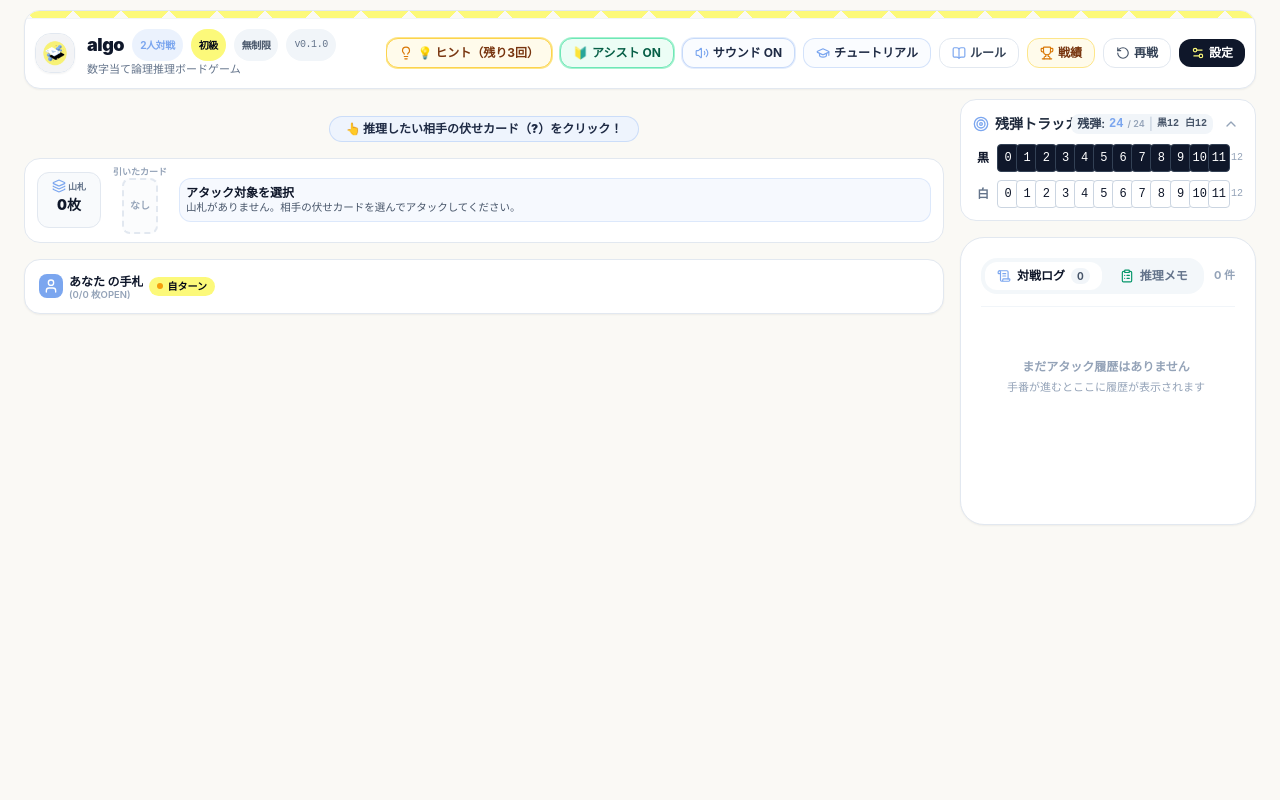
Test: GameBoard Component & Timer Pause/Resume Logic (Issue #13) › 通算戦績（Match Stats）およびアチーブメント（実績システム）(Issue #72) › ヘッダーの「🏆 戦績」ボタンをクリックすると StatsModal が開き、戦績と実績を確認できること
The width and height of the screenshot is (1280, 800).
# クリックでオープン
Click the button with test id "btn-open-stats" at (1061, 53), box [1027, 38, 1095, 68]
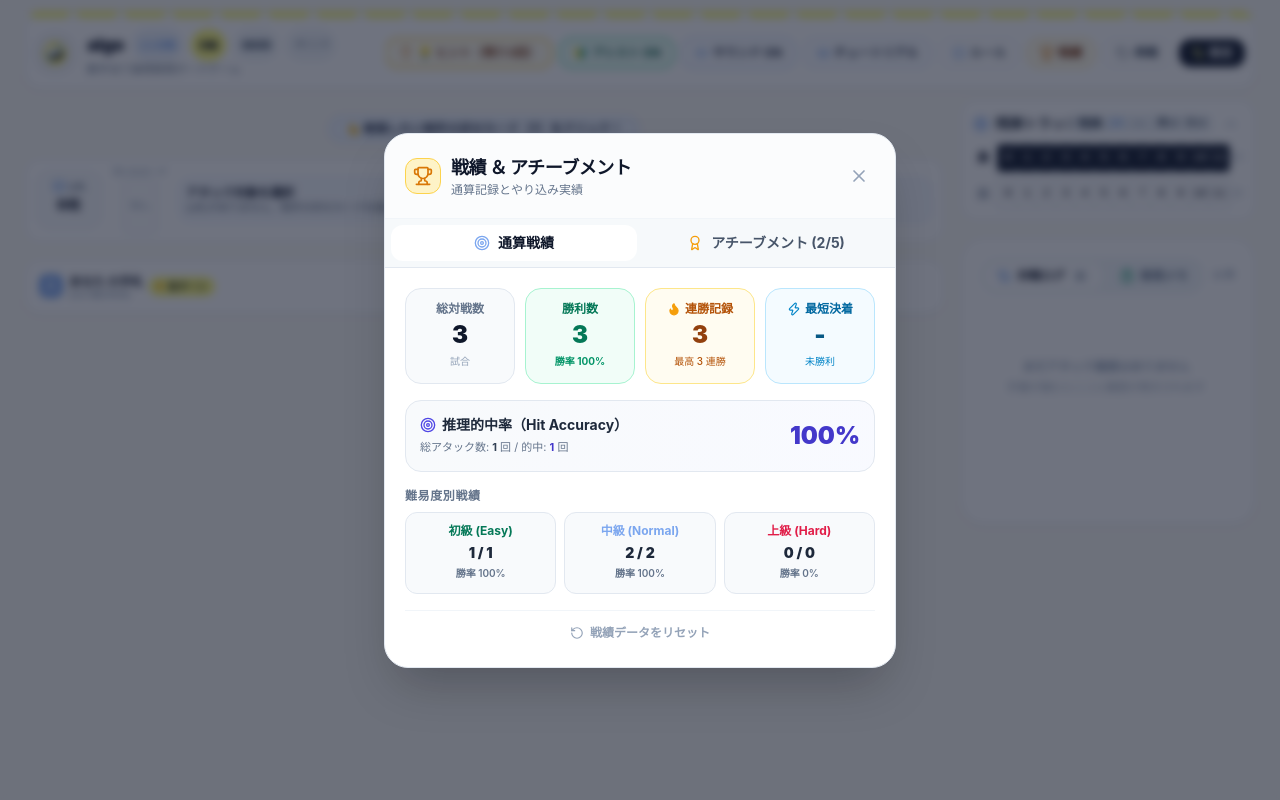
Expected: the dialog with test id "stats-modal" is shown
Expected: the text with test id "stat-total-games" is shown, [452, 318, 468, 350]
# 閉じるボタンで閉じる
Click the button with test id "close-stats-modal" at (859, 176), box [843, 160, 875, 192]
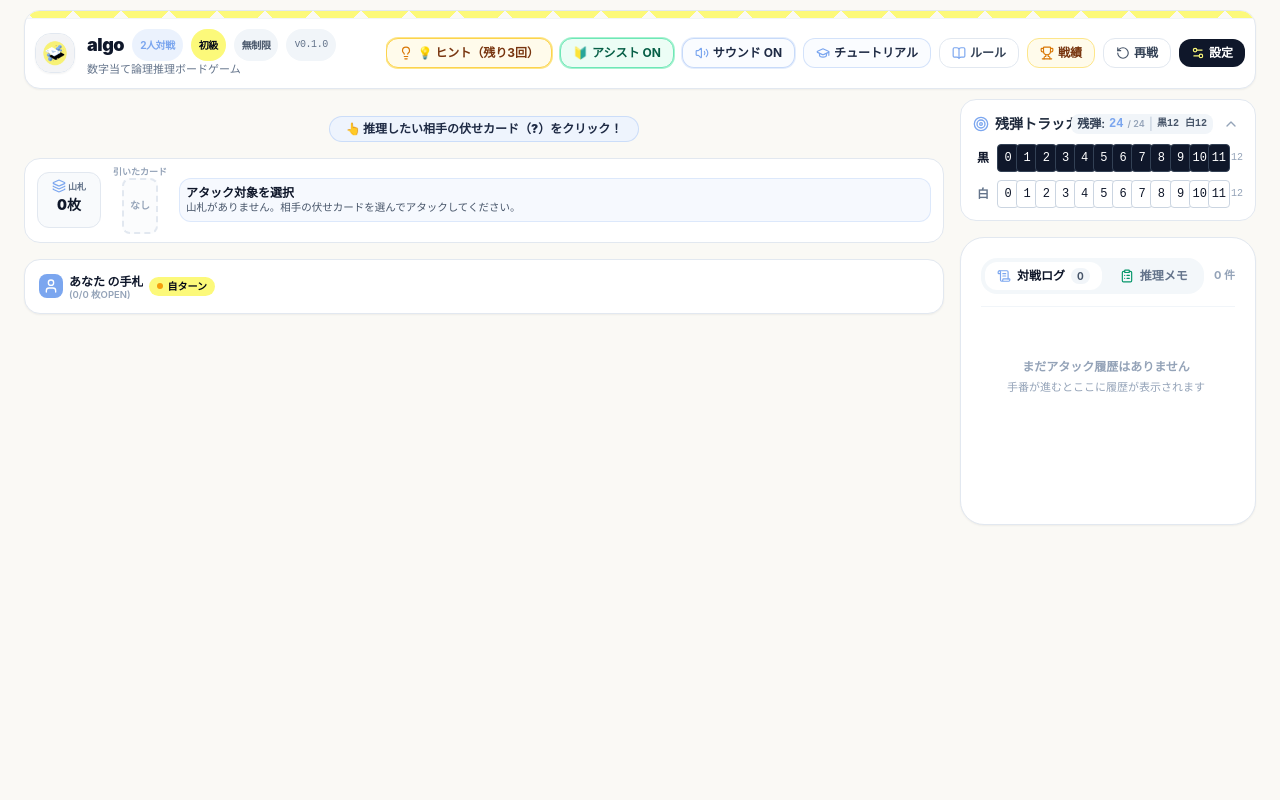
Expected: the dialog with test id "stats-modal" is gone
